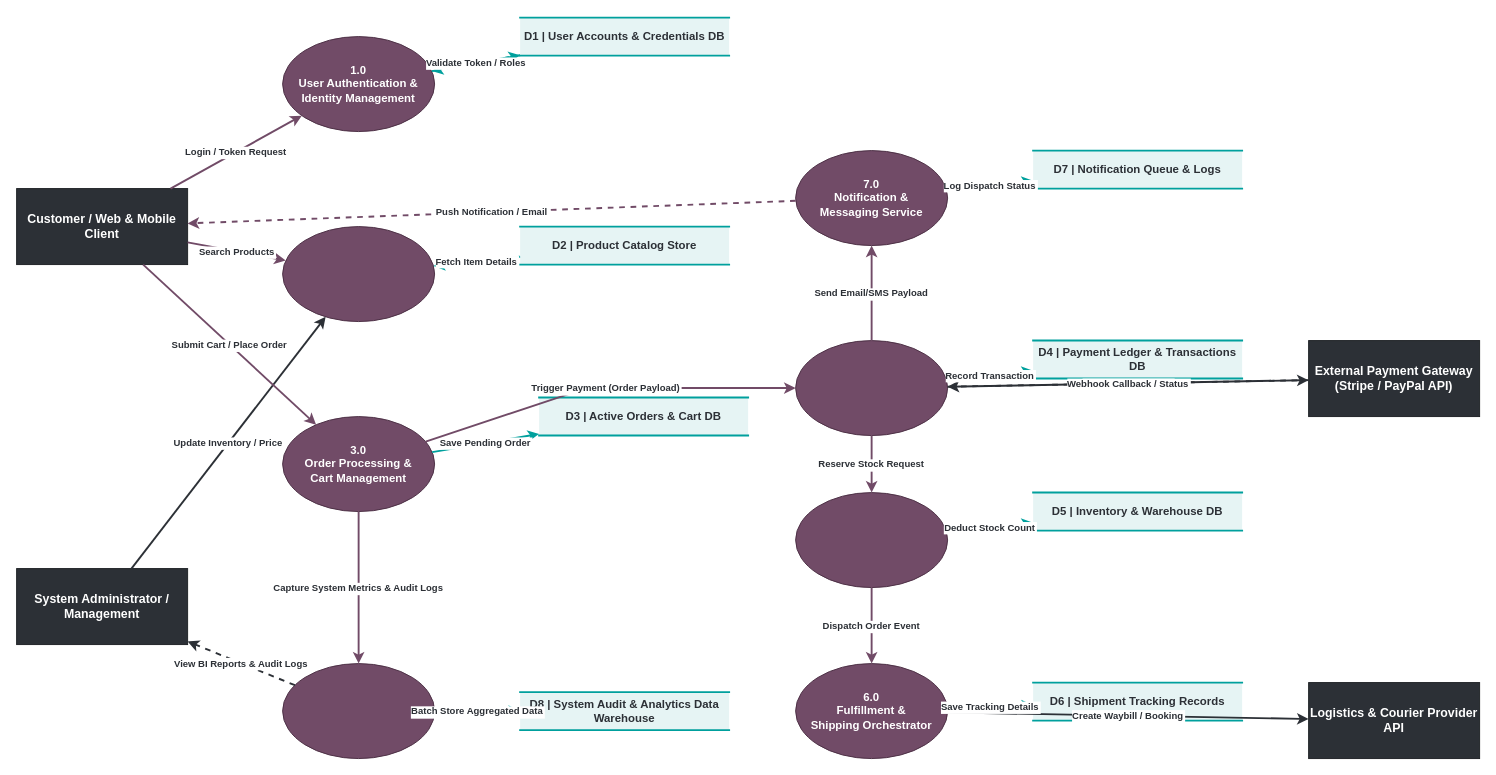
The diagram is 1496 pixels wide and 775 high, and some of its shapes have lost their labels. The centre of each missing label's shape, as x and y in pixels:
2.0 Product Catalog & Search Service: pixel 358 274
4.0 Payment Verification & Billing Handler: pixel 871 388
5.0 Inventory & Stock Reservation: pixel 871 540
8.0 Analytics, Audit & Reporting Engine: pixel 358 711
